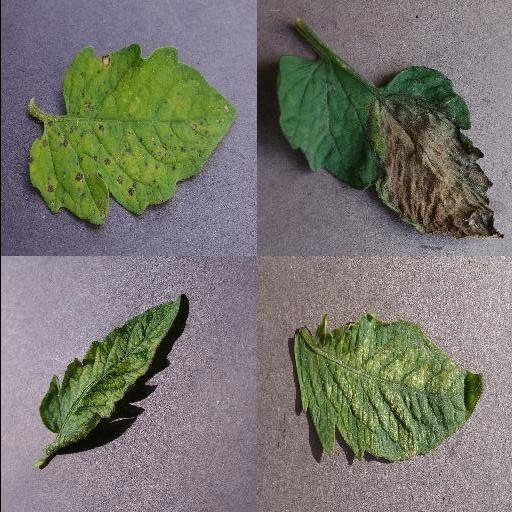Late Blight: (274, 56, 504, 242)
Mosaic Virus: (39, 290, 183, 444)
Septoria: (27, 46, 241, 226)
Spider Mites: (289, 315, 483, 465)
